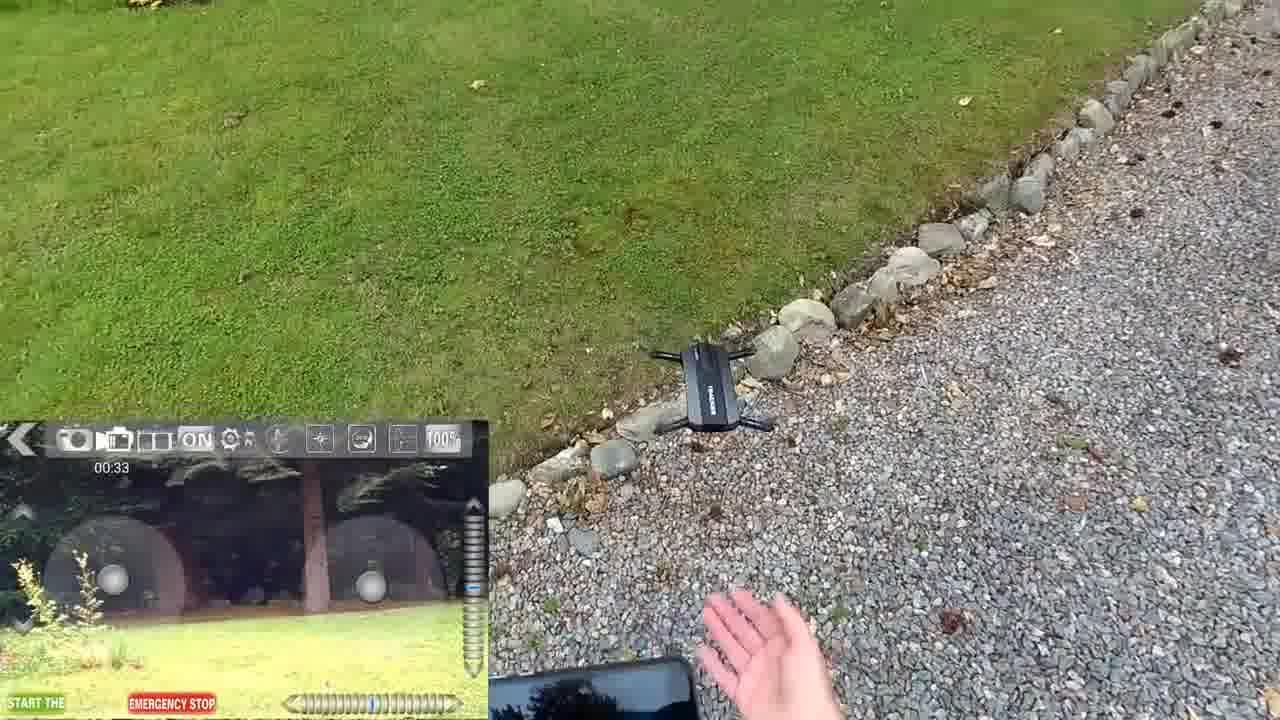drone: (634, 325, 790, 446)
